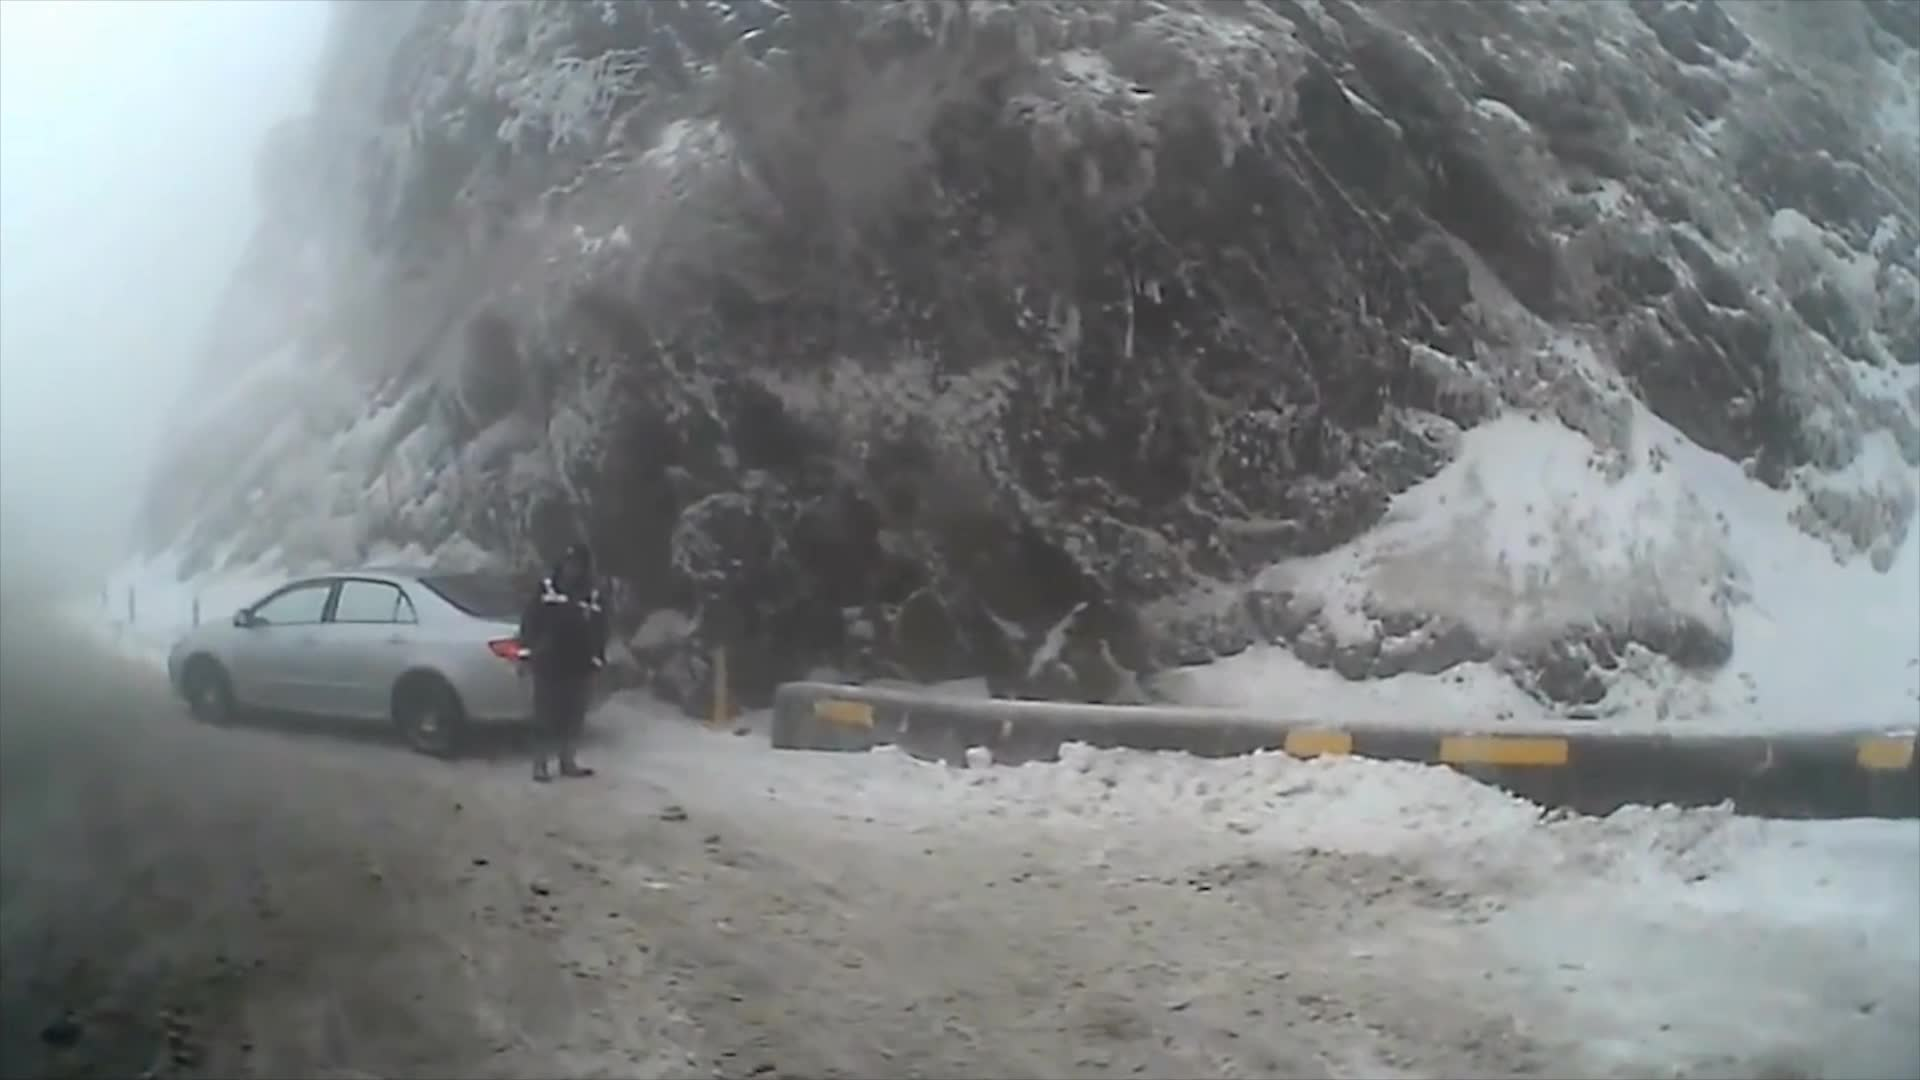pedestrian: (521, 545, 606, 785)
vehicle: (165, 564, 618, 762)
